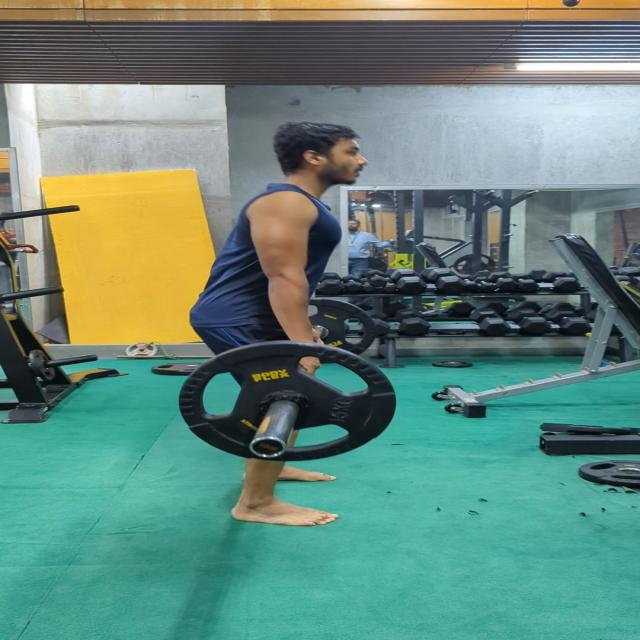Normal_Deadlifts: (188, 121, 372, 528)
